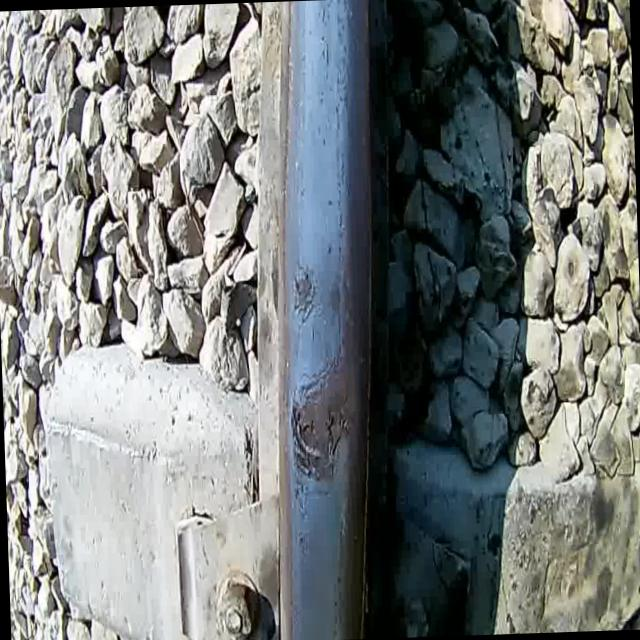Cracks: (288, 276, 322, 326)
Spallings: (288, 394, 323, 482), (323, 390, 354, 480)
Squats: (283, 339, 368, 494), (285, 253, 324, 330)
